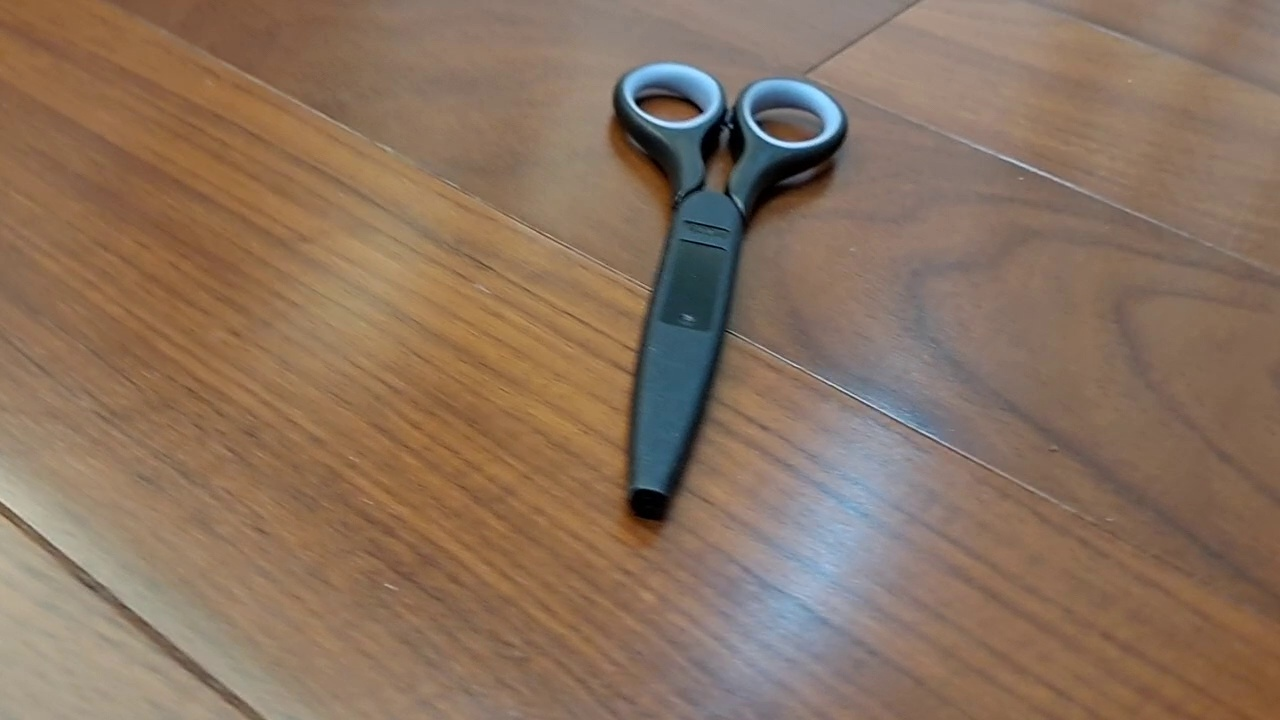scissors: (612, 60, 849, 522)
